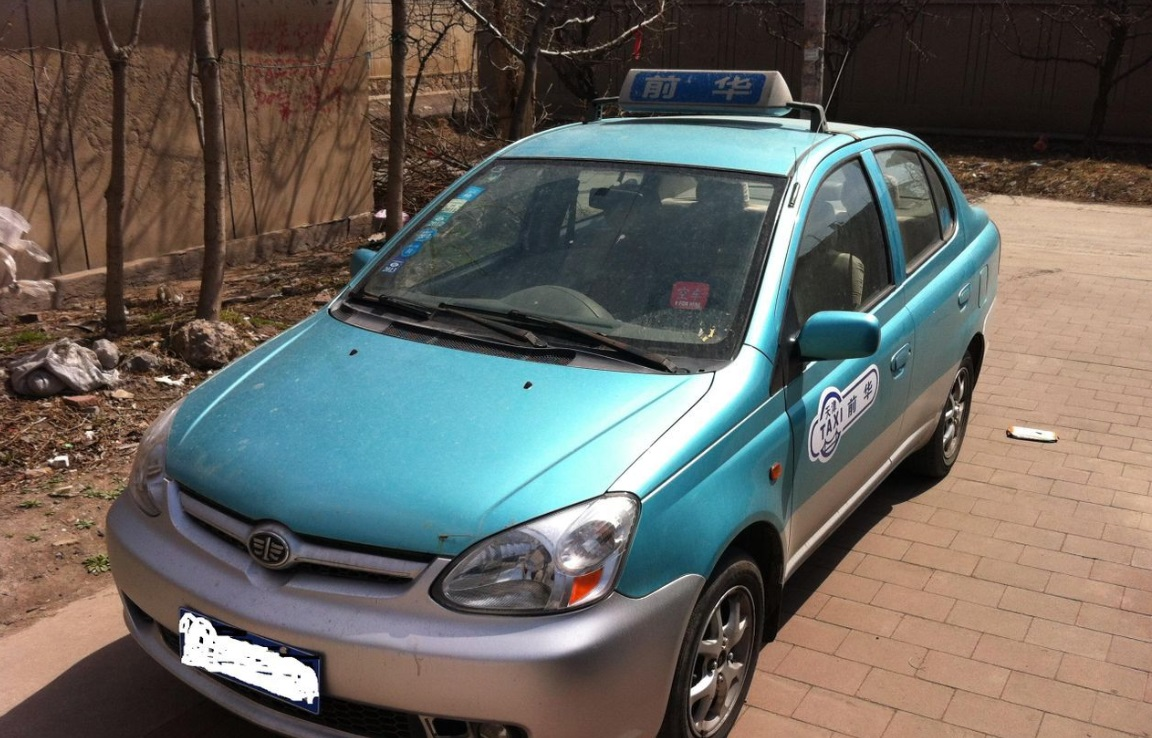taxi: (105, 64, 1002, 738)
